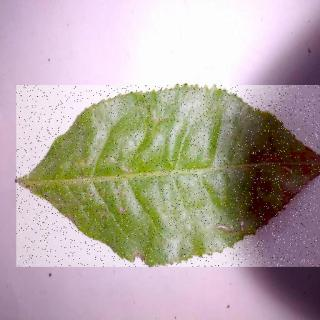Bird Eye Spot: (17, 86, 320, 268)
